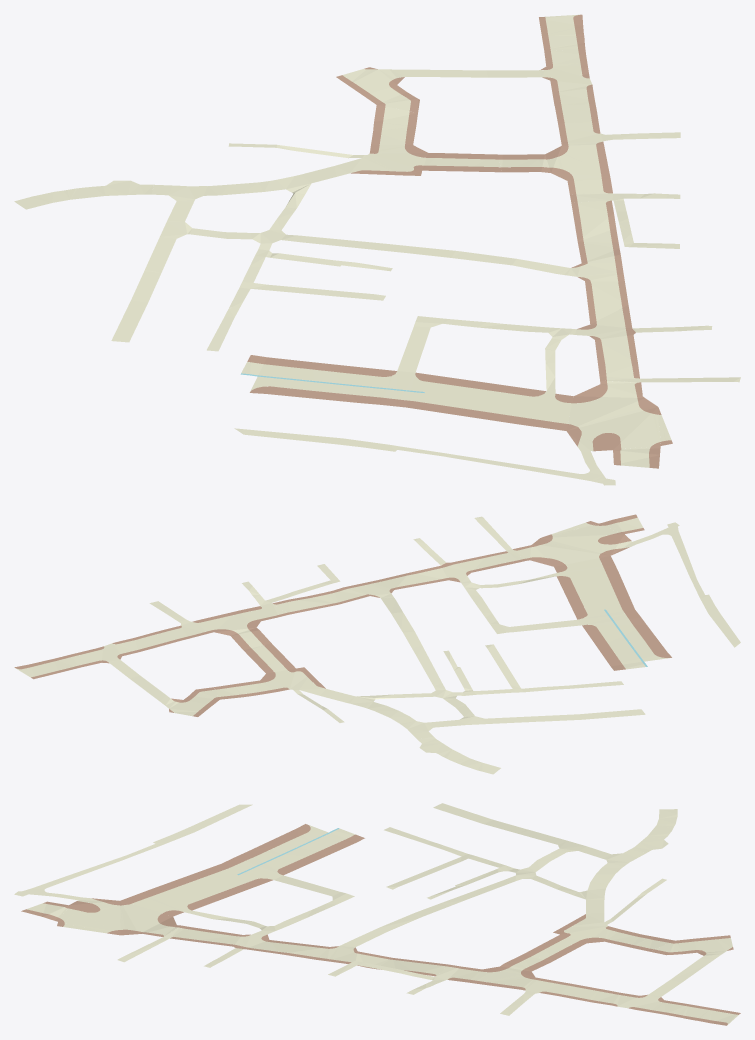
File: data52.glb
3 views of the same model, one above another, from view 1: azimuth 30°, elevation 25°; view 2: azimuth 150°, elevation 25°; view 3: azimuth 270°, elevation 25° (orthographic). The views are drawn at different scales.
Size of the model in its own units: 267 by 14.8 by 327.
